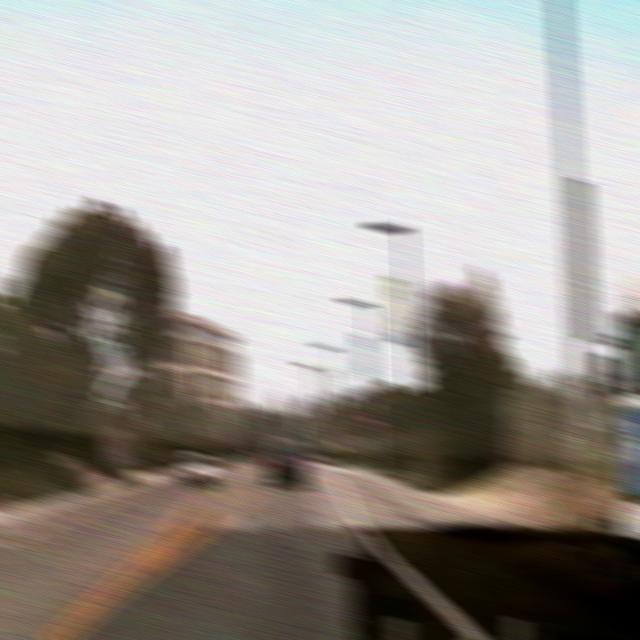stop_sign: (360, 410, 383, 430)
